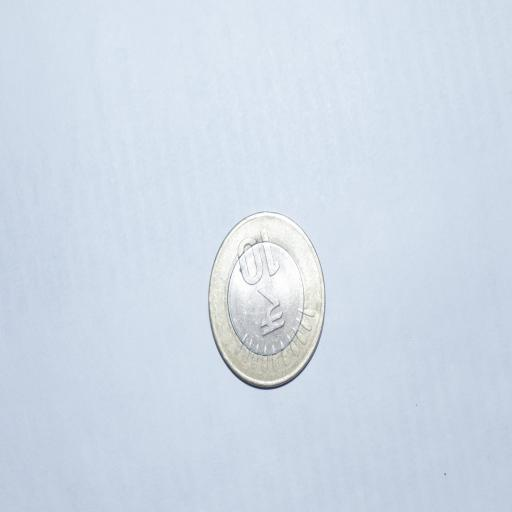rupee10: (207, 211, 326, 390)
